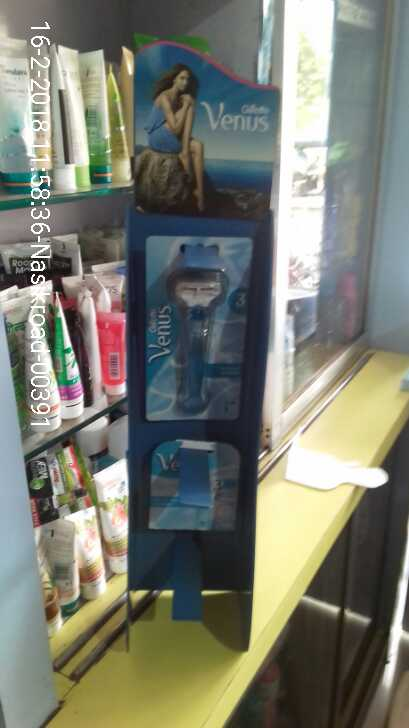venus: (146, 235, 249, 421), (150, 430, 238, 536)
